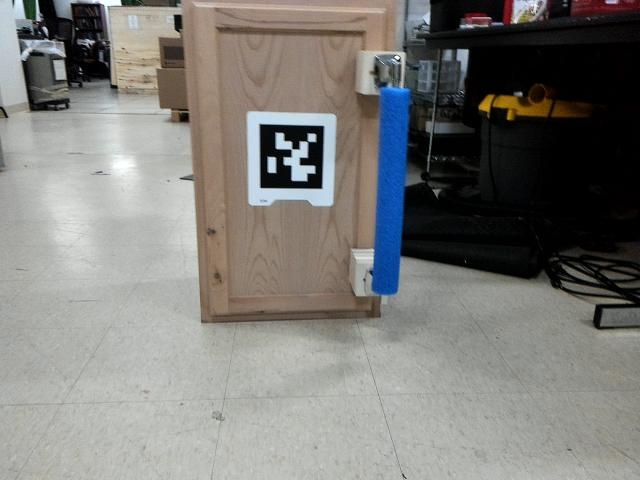noodle_handle: (368, 74, 409, 303)
